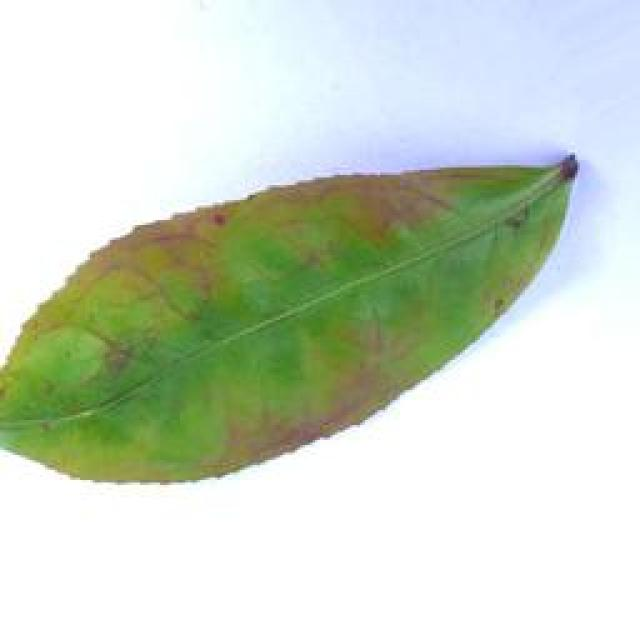Red Leaf Spot: (0, 145, 595, 501)
